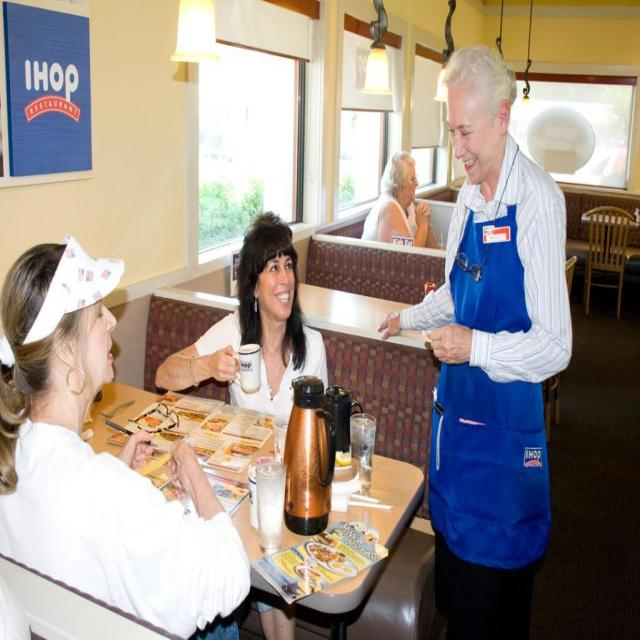nomask: (445, 104, 499, 183), (72, 299, 118, 385), (262, 262, 294, 317), (401, 168, 418, 199)
